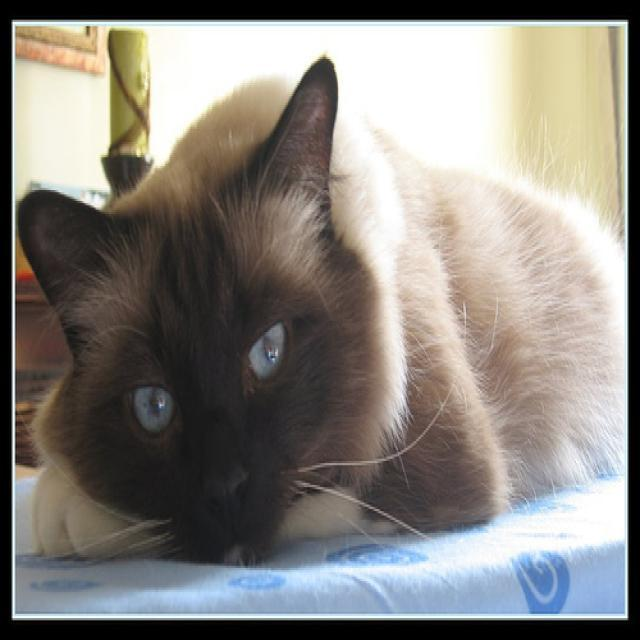Birman: (16, 52, 401, 582)
